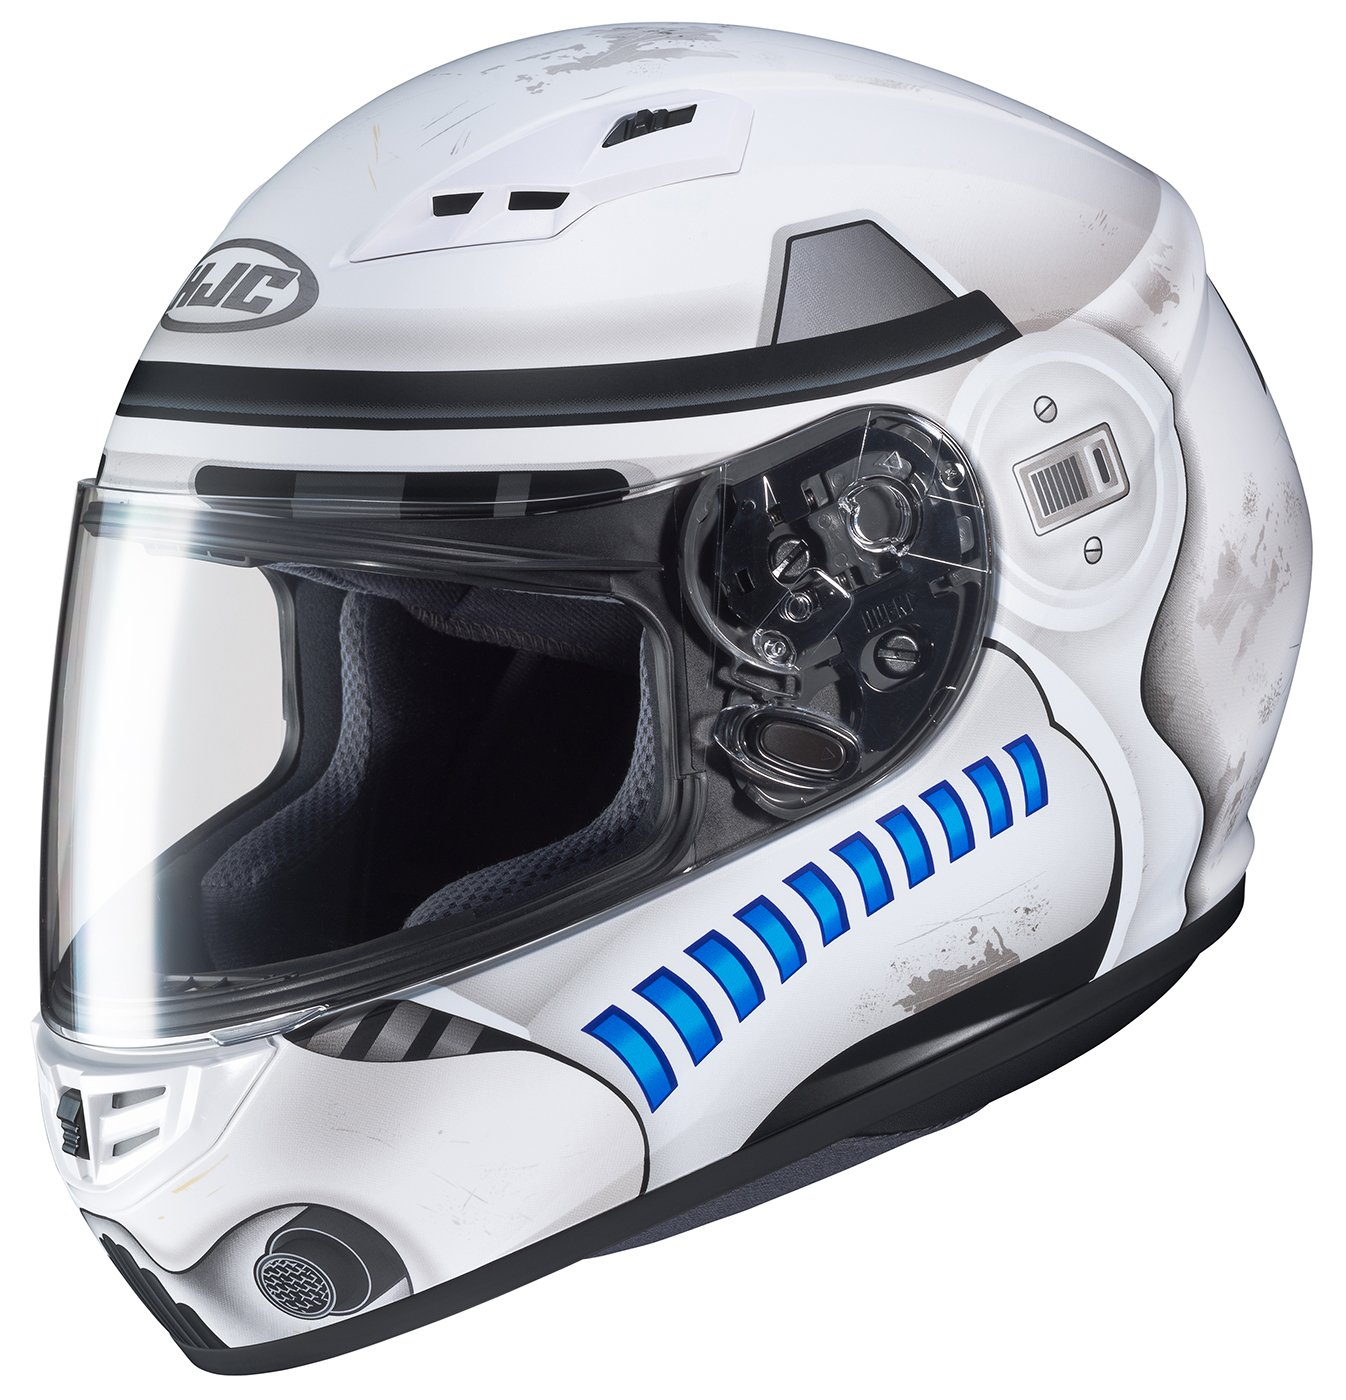with_helmet: (27, 12, 1316, 1379)
